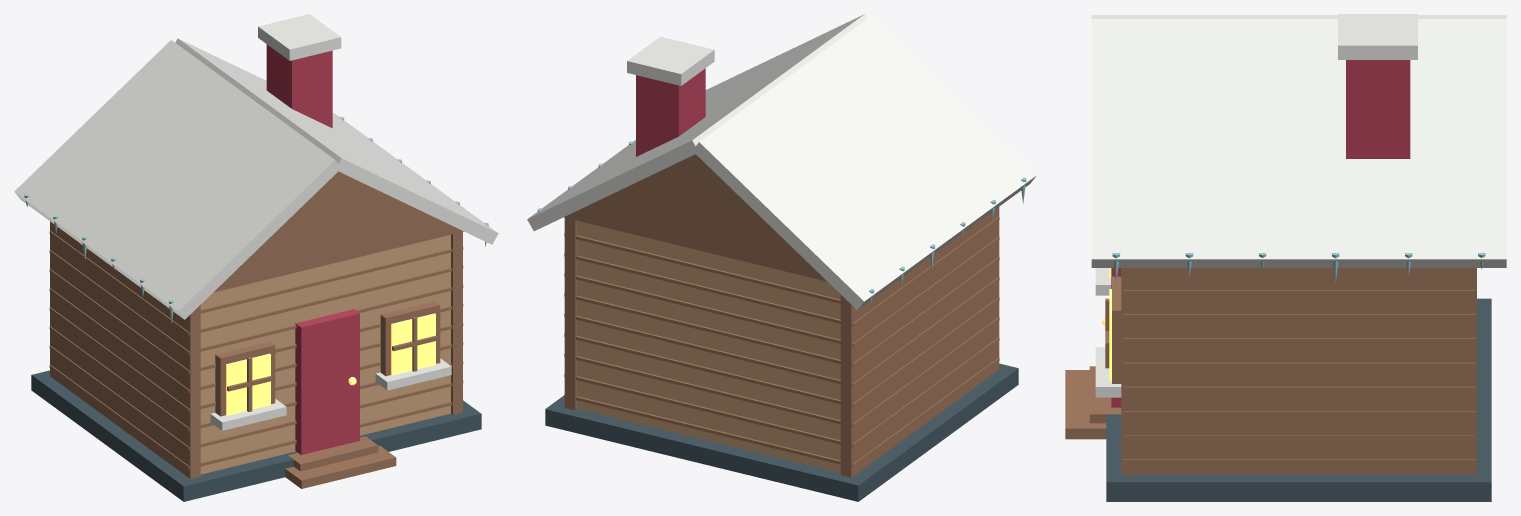
Rendered from cabin.glb.
3 renders of one model, left to right at view 1: azimuth 30°, elevation 25°; view 2: azimuth 150°, elevation 25°; view 3: azimuth 270°, elevation 25°, orthographic. The views are drawn at different scales.
Parts seen in each view (by area): view 1: hearth-cabin-snow, hearth-cabin-wood, hearth-cabin-cedar, hearth-cabin-red, hearth-cabin-iron, hearth-cabin-amber; view 2: hearth-cabin-snow, hearth-cabin-wood, hearth-cabin-cedar, hearth-cabin-iron, hearth-cabin-red; view 3: hearth-cabin-snow, hearth-cabin-wood, hearth-cabin-iron, hearth-cabin-red, hearth-cabin-ice.
Boxes of the visible parts, box(x1,y1,x2,y2) form: hearth-cabin-snow: box(14, 14, 498, 430); hearth-cabin-wood: box(49, 171, 463, 488); hearth-cabin-cedar: box(200, 235, 450, 474); hearth-cabin-red: box(266, 44, 359, 454); hearth-cabin-iron: box(31, 370, 481, 501); hearth-cabin-amber: box(226, 313, 435, 415); hearth-cabin-snow: box(527, 14, 1036, 310); hearth-cabin-wood: box(564, 154, 999, 477); hearth-cabin-cedar: box(577, 221, 840, 472); hearth-cabin-iron: box(545, 363, 1018, 501); hearth-cabin-red: box(636, 68, 705, 156); hearth-cabin-snow: box(1091, 14, 1506, 397); hearth-cabin-wood: box(1065, 268, 1476, 474); hearth-cabin-iron: box(1106, 298, 1491, 501); hearth-cabin-red: box(1111, 60, 1410, 407); hearth-cabin-ice: box(1112, 253, 1485, 282).
Bounding box in the file's own units: 4.74 × 4.76 × 4.47.
